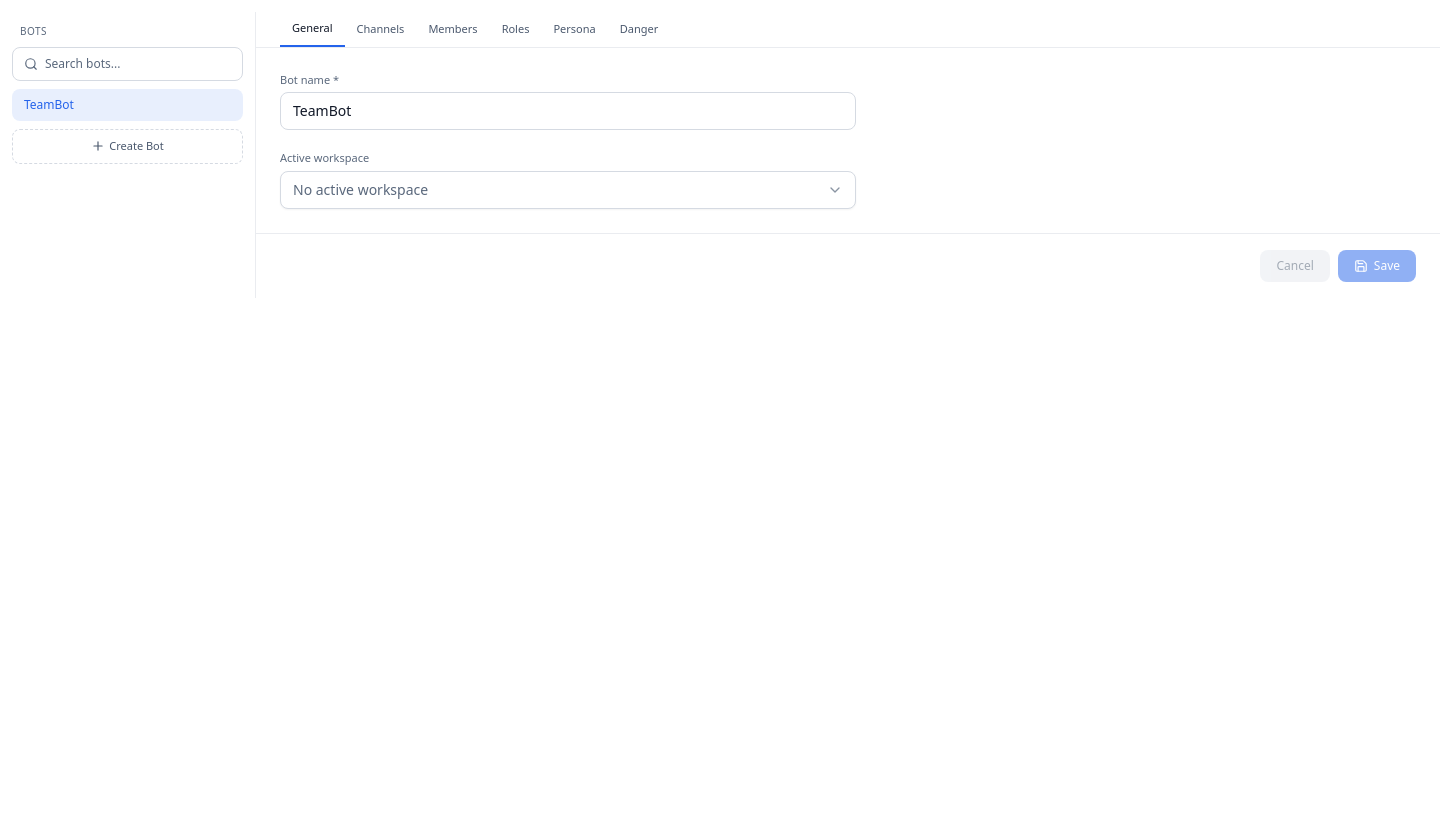
Test: BotManagementPage › delegates persona save through the page-level Save footer
Click the button "Persona". click: (575, 29)
box: x1=541 y1=12 x2=608 y2=46
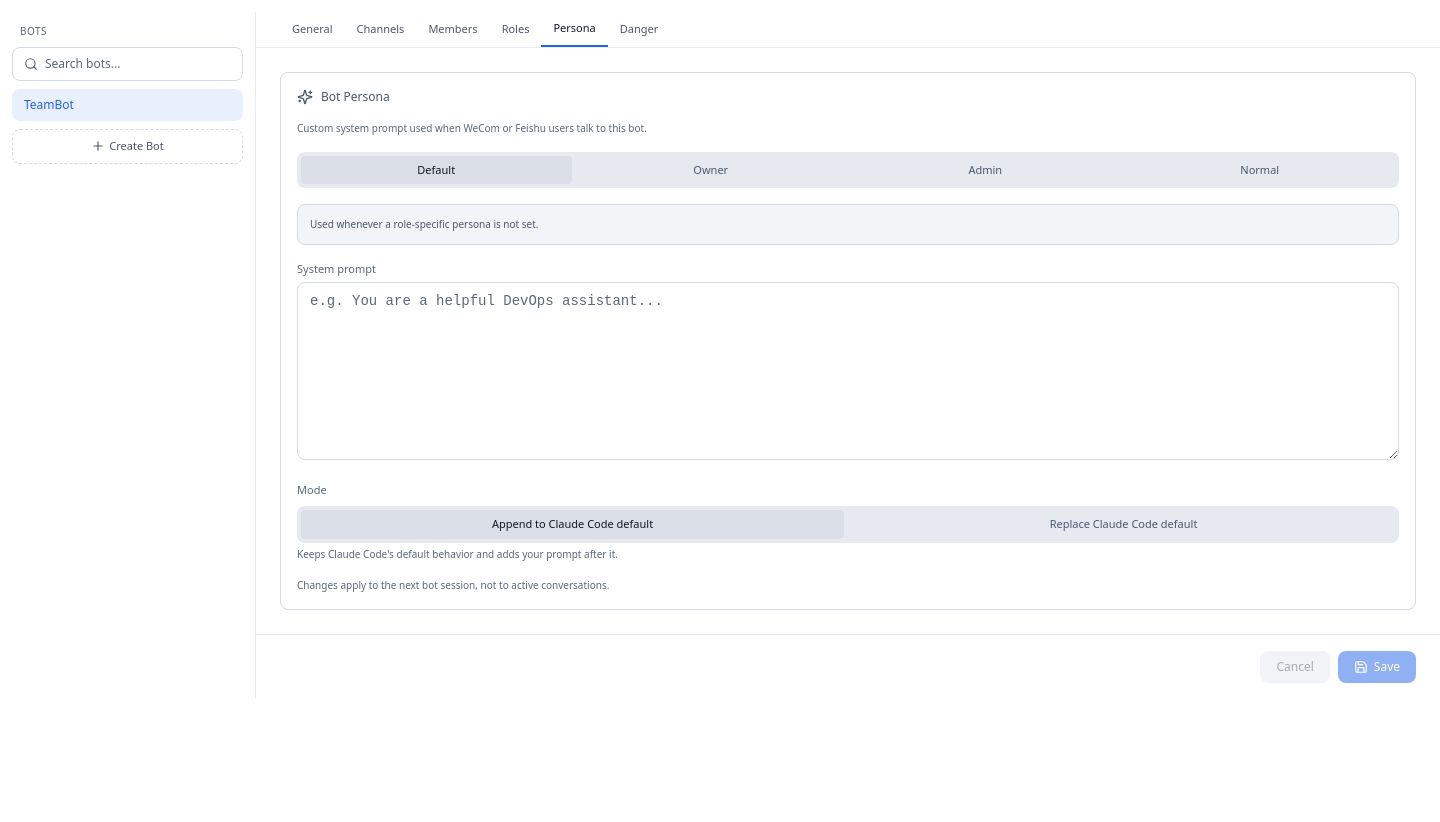
Check: the text box with placeholder "e.g. You are a helpful DevOps assistant..." is shown
Type "Friendly" into the text box with placeholder "e.g. You are a helpful DevOps assistant...". click: (848, 370)
box: x1=297 y1=282 x2=1399 y2=460
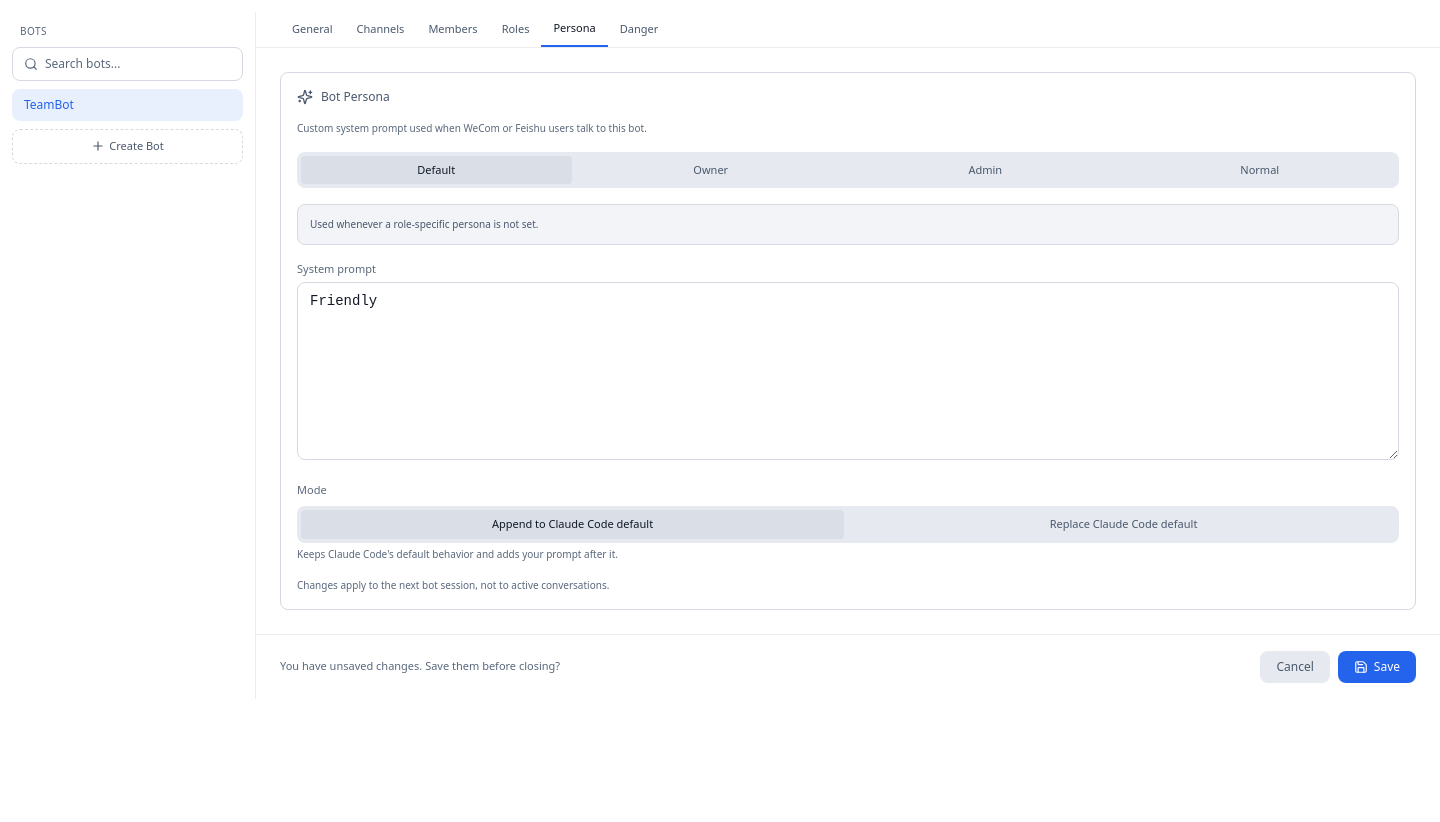
Check: the button "Save" is enabled
Click the button "Save". click: (1377, 666)
box: x1=1338 y1=650 x2=1416 y2=682
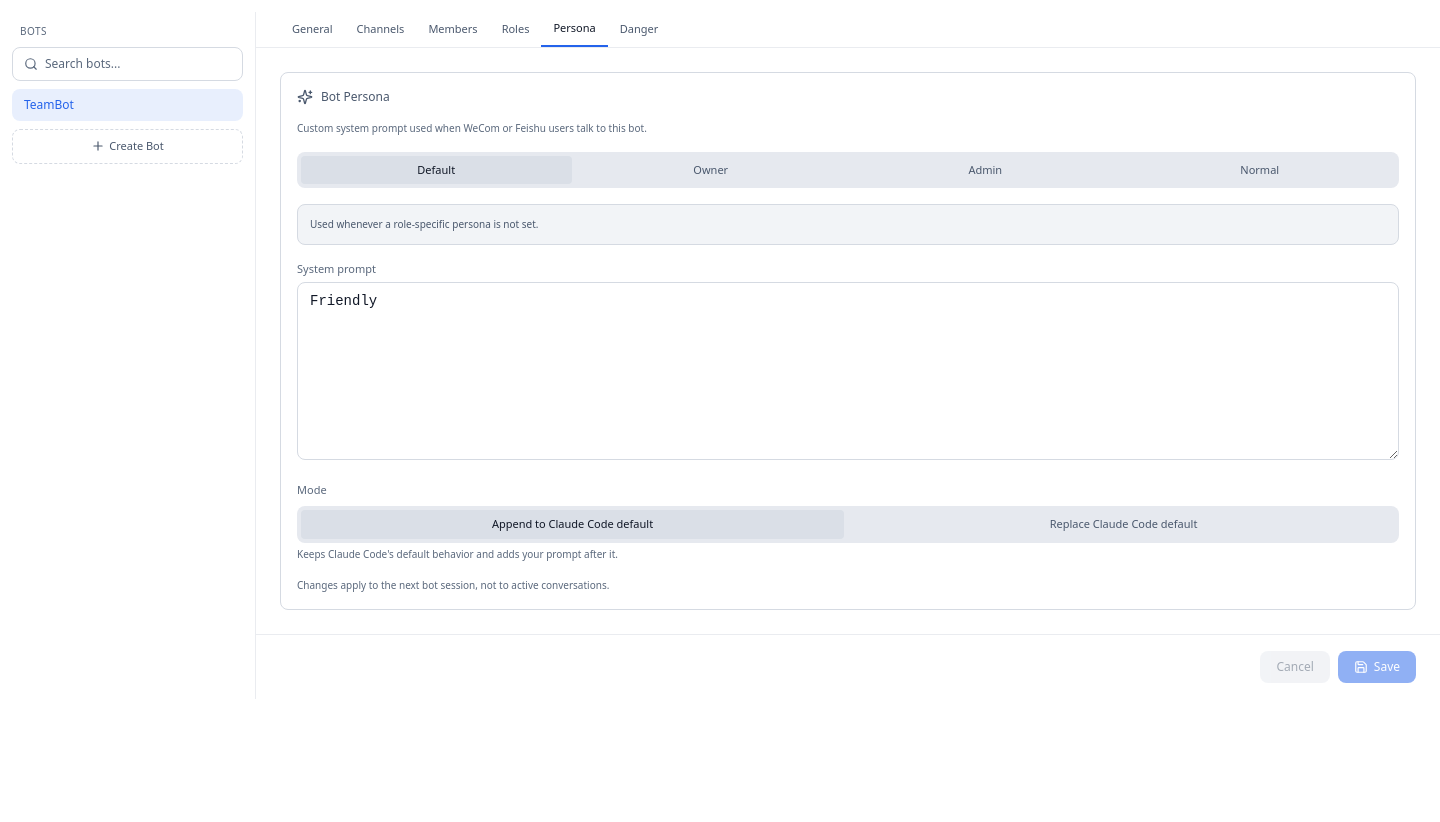
Check: the button "Save" is disabled, box x1=1338 y1=650 x2=1416 y2=682
